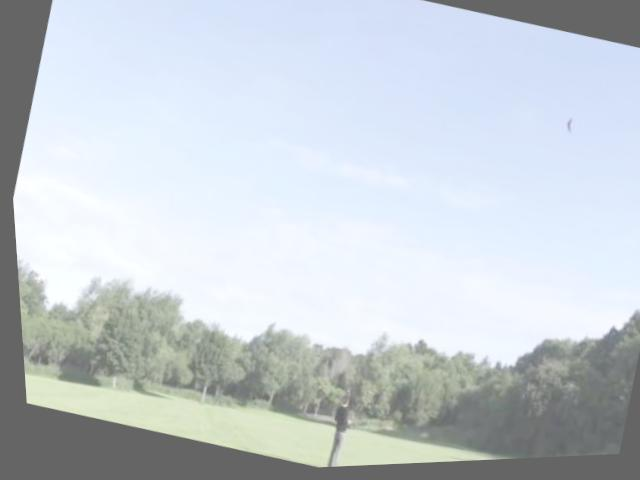flying wing: (560, 121, 575, 140)
